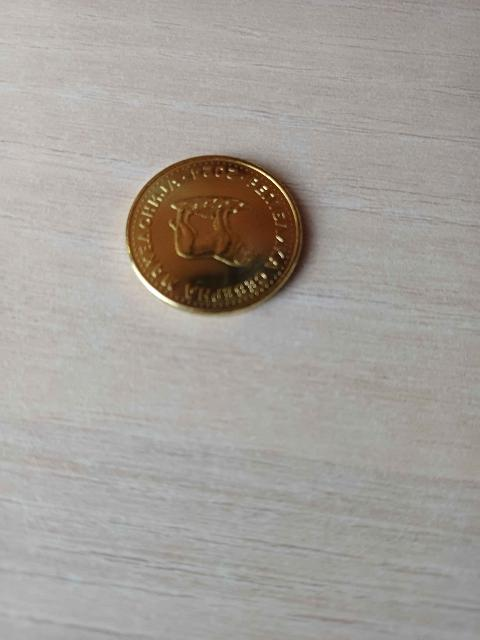1_coin: (126, 151, 306, 312)
